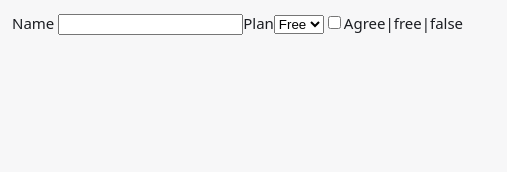
Test: change event types › updates controlled inputs
Type "Ada" into the field labelled "Name". click: (151, 24)
box: [58, 14, 243, 35]
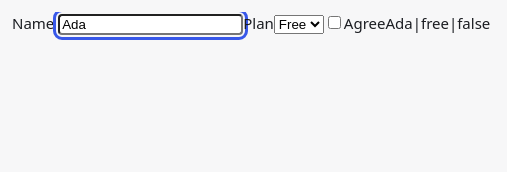
Select "Pro" in the dropdown labelled "Plan". click: (299, 24)
box: [274, 15, 324, 34]
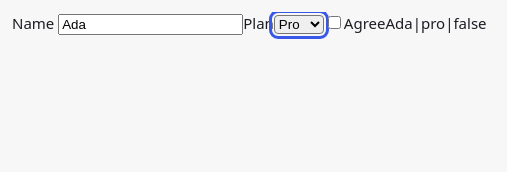
Click the checkbox labelled "Agree". click: (334, 22)
box: [328, 16, 341, 29]
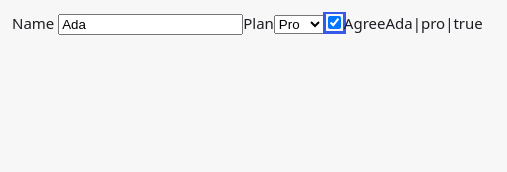
Check: the text "Ada|pro|true" is shown, box [386, 13, 483, 33]
